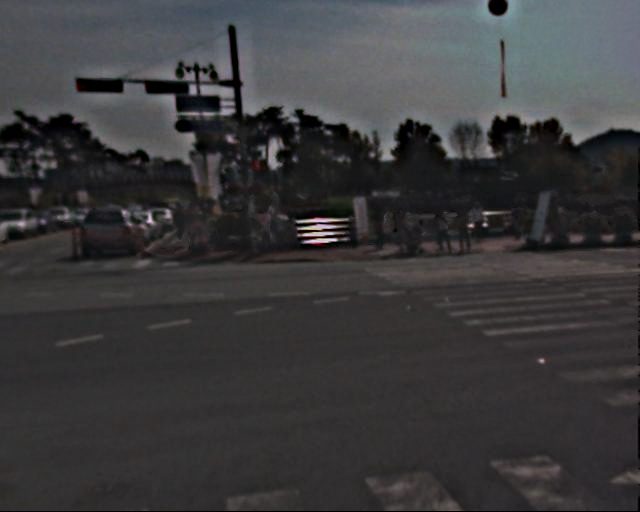person: (174, 199, 226, 239), (392, 198, 416, 257), (436, 206, 457, 258), (459, 203, 480, 255), (259, 205, 280, 256), (474, 204, 495, 241), (377, 203, 394, 245)
